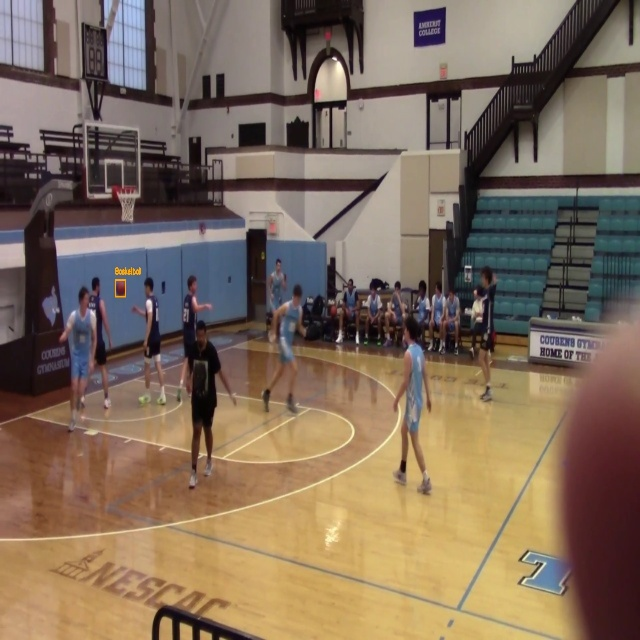Basketball: (115, 280, 126, 296)
